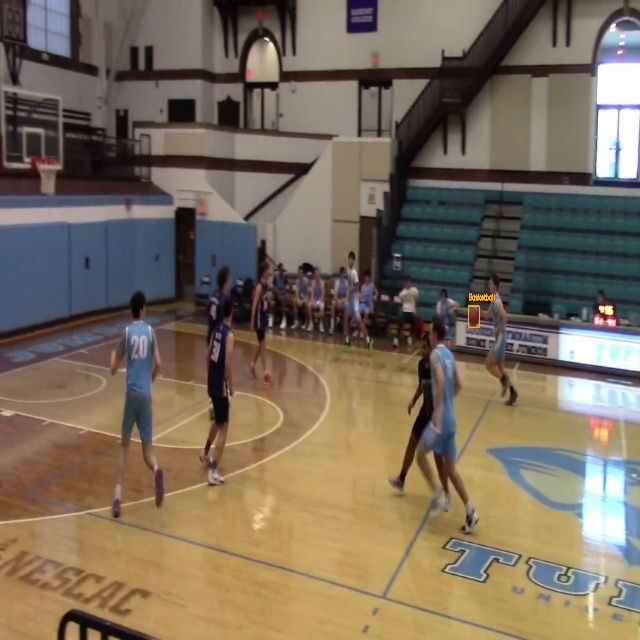Basketball: (468, 306, 479, 328)
